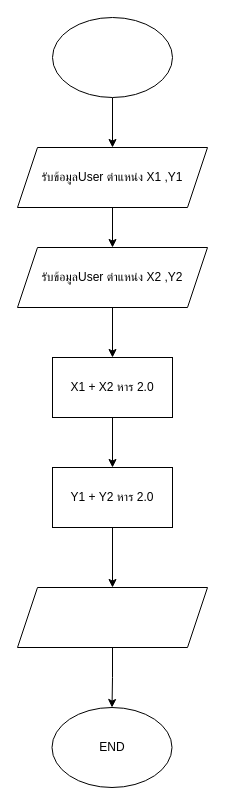
This 225x805 diagram has some shape labels left out. Here are the shapes that lost their labels. From the top down, the centre of each, then its label:
point (112, 57): Start
point (112, 617): แสดงผลลัพธ์
